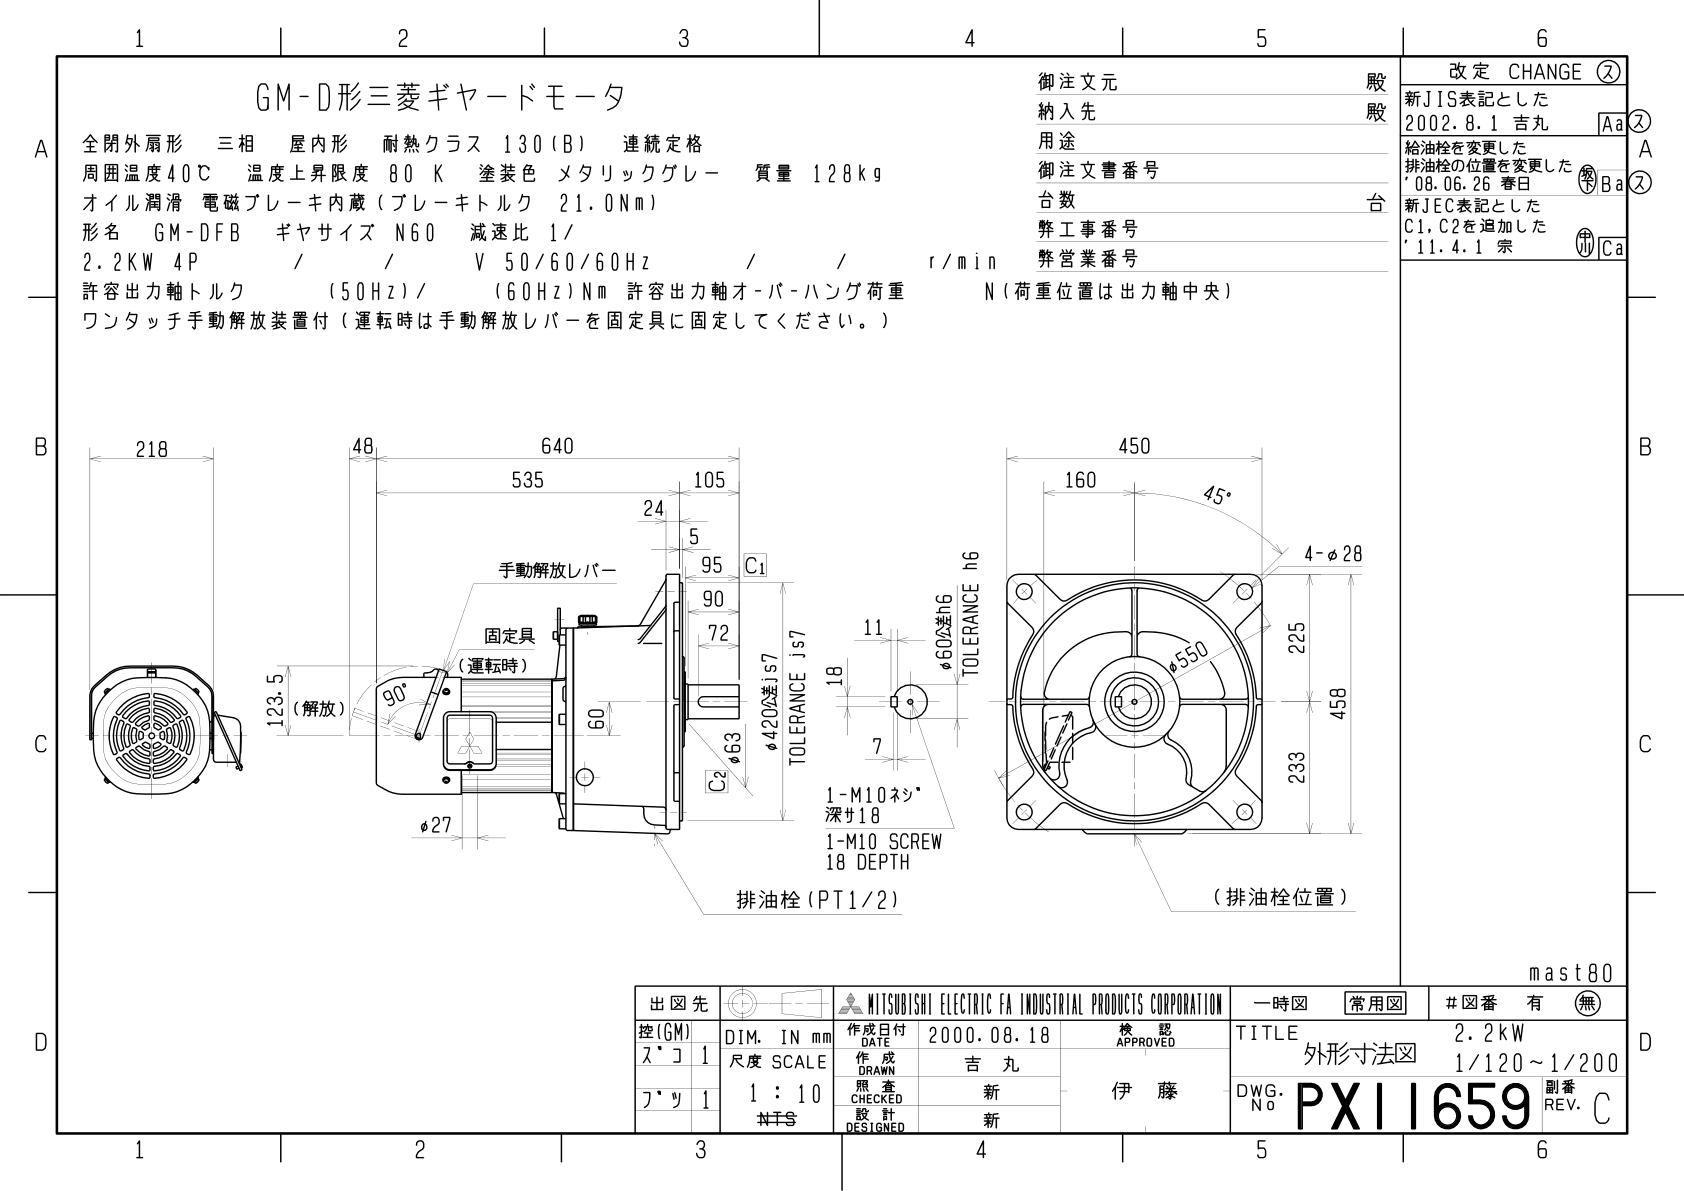GM_D_手動解放ブレーキ＿三相_フランジ: (64, 388, 1385, 945)
